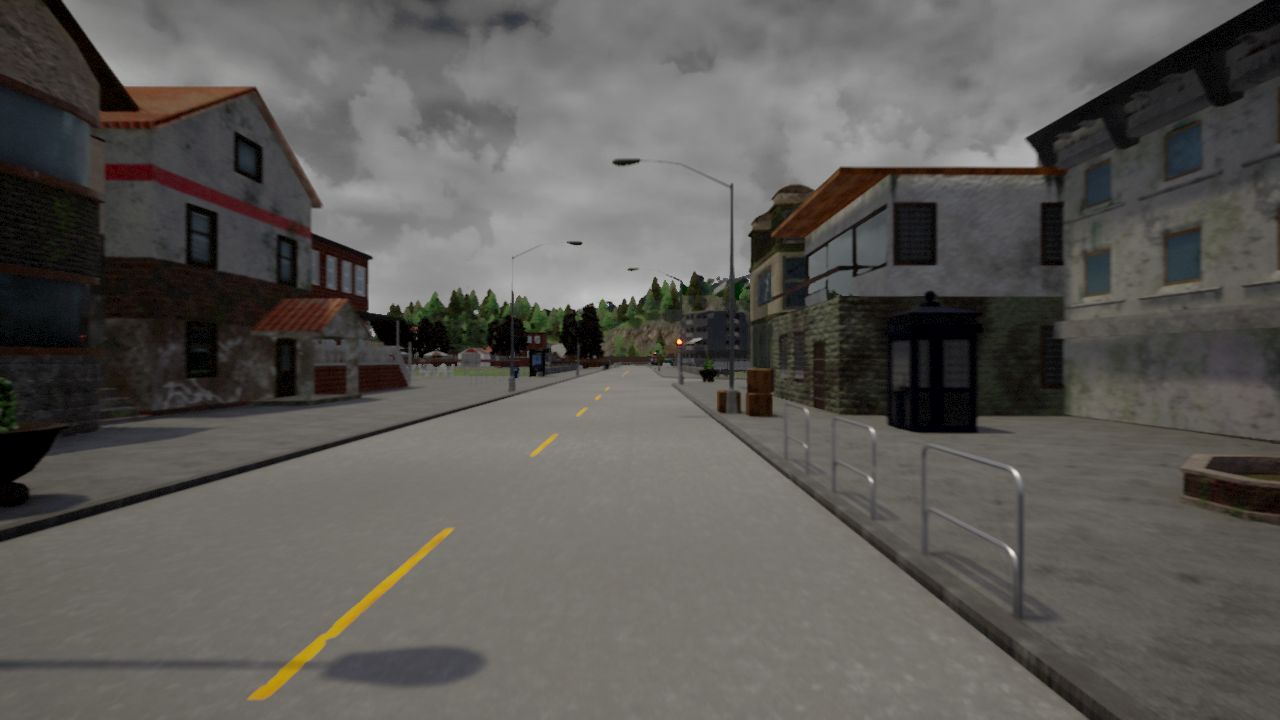red: (676, 338, 682, 355)
